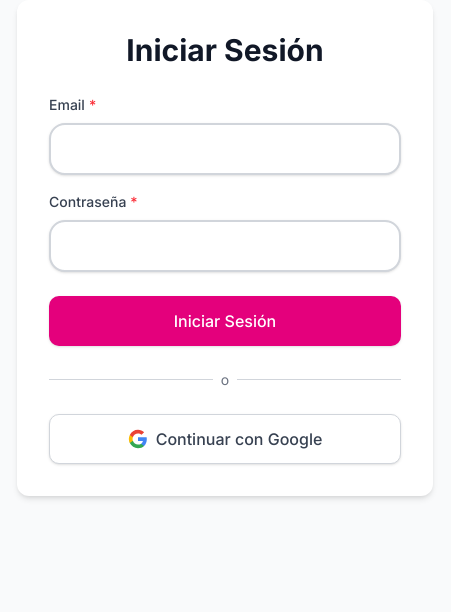
Test: LoginForm - Accessibility Tests › ARIA Live Regions › should announce network errors to screen readers
The width and height of the screenshot is (451, 612).
Type "test@example.com" into the field labelled "Email*" at (225, 148), box [49,122,401,174]
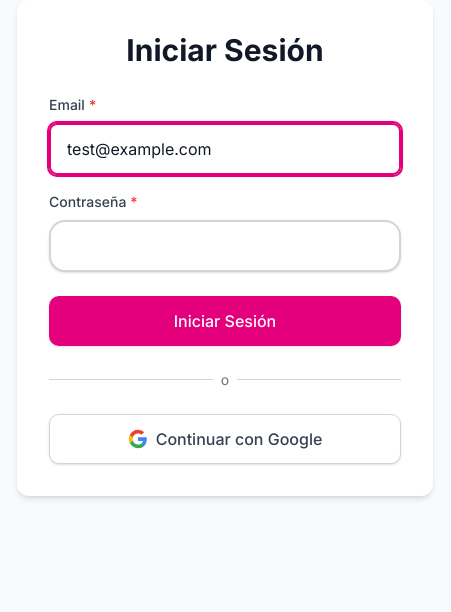
Type "password123" into the password field labelled "Contraseña*" at (225, 246), box [49,220,401,272]
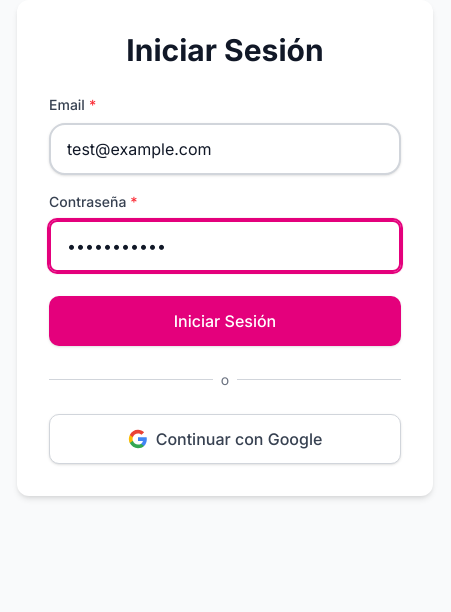
Click the button "Iniciar Sesión" at (225, 320), box [49,296,401,346]
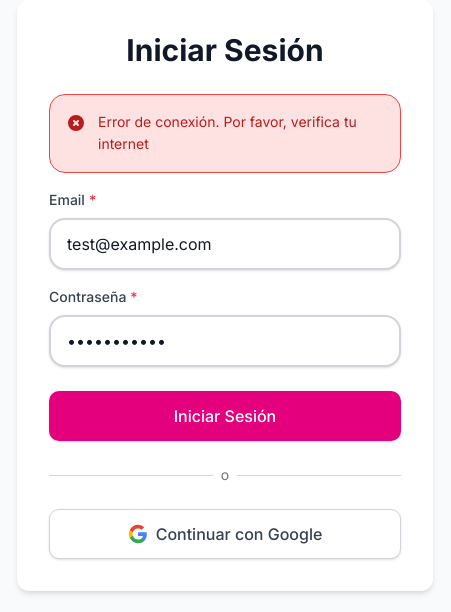
Check: the message shows "Error de conexión", box [98,112,357,152]
